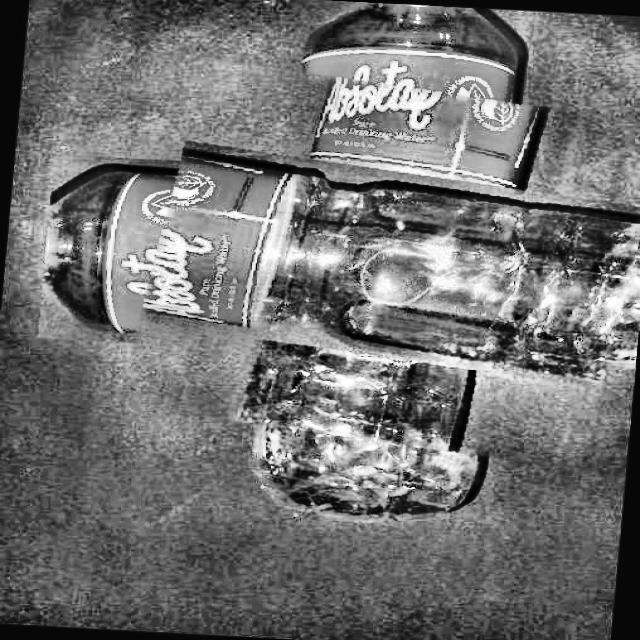Plastic-Bottle: (127, 65, 640, 463)
